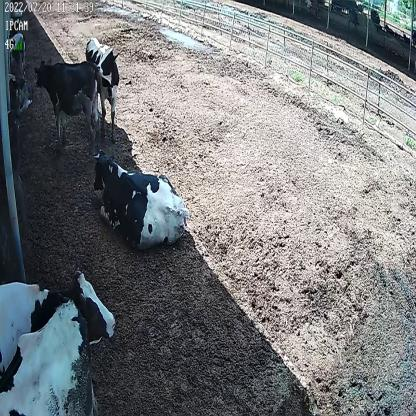cow: (92, 148, 190, 250), (31, 55, 105, 145), (84, 31, 120, 138)
